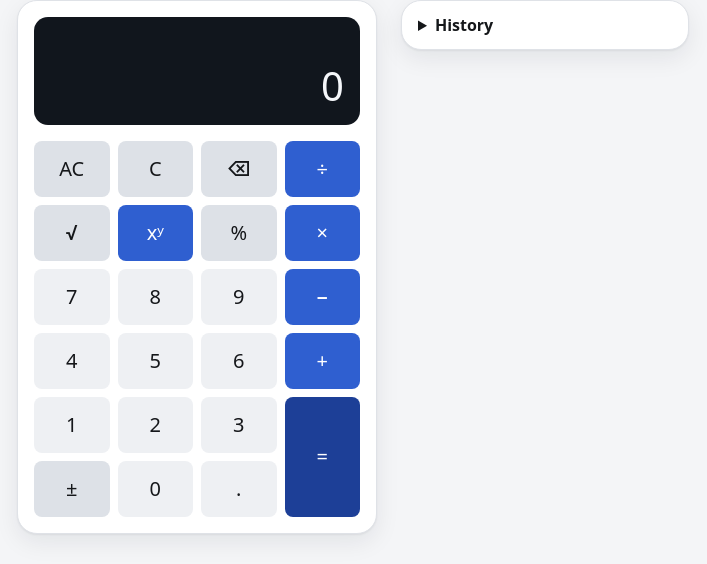
Test case: UC-UI-01 extensions › E6/E7: a rate limit shows the fixed copy in the one alert region
Click the button "1".
click(72, 425)  # box [34, 397, 110, 453]
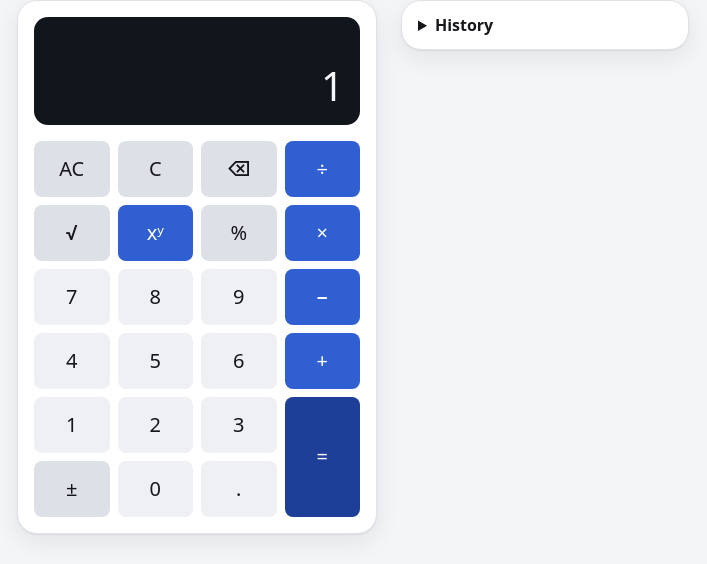
Click the button named "divide".
click(322, 169)  # box [284, 141, 360, 197]
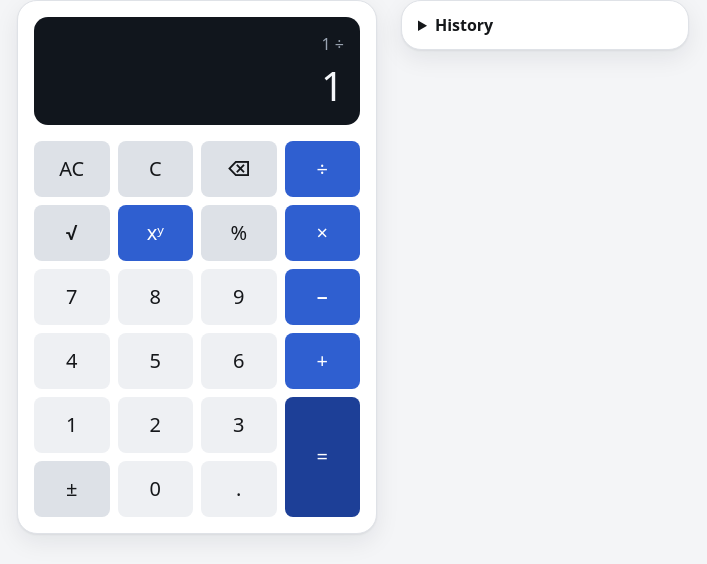
Click the button "0".
click(155, 489)  # box [118, 461, 193, 517]
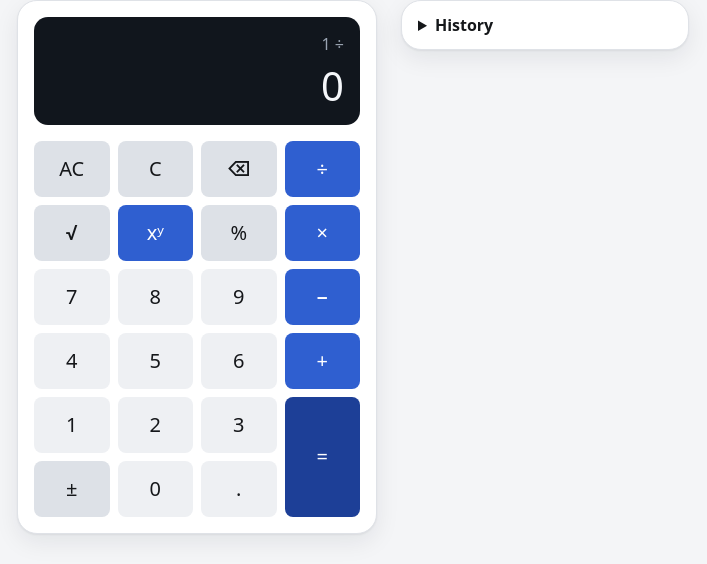
Click the button named "equals".
click(322, 457)  # box [284, 397, 360, 517]
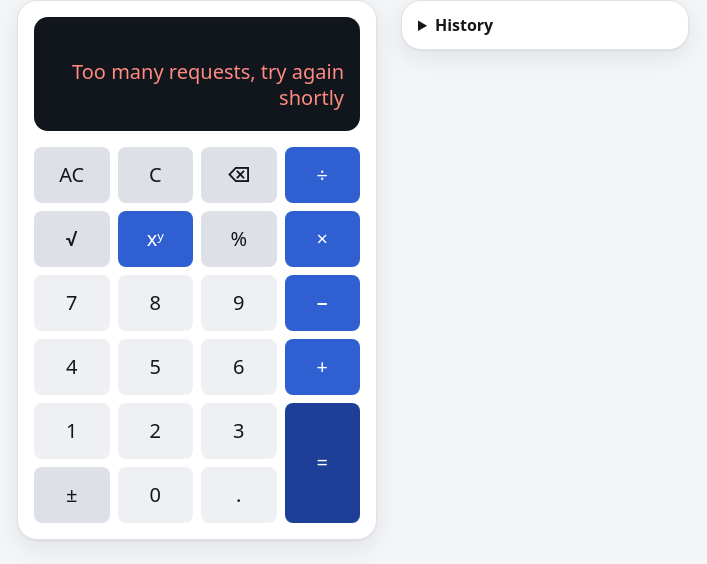
Expected: the message does not show "Ref", [50, 59, 344, 111]
Result: the number of messages is 1 at [50, 59, 344, 111]
Result: the message reads "Too many requests, try again shortly" at [72, 58, 344, 111]
